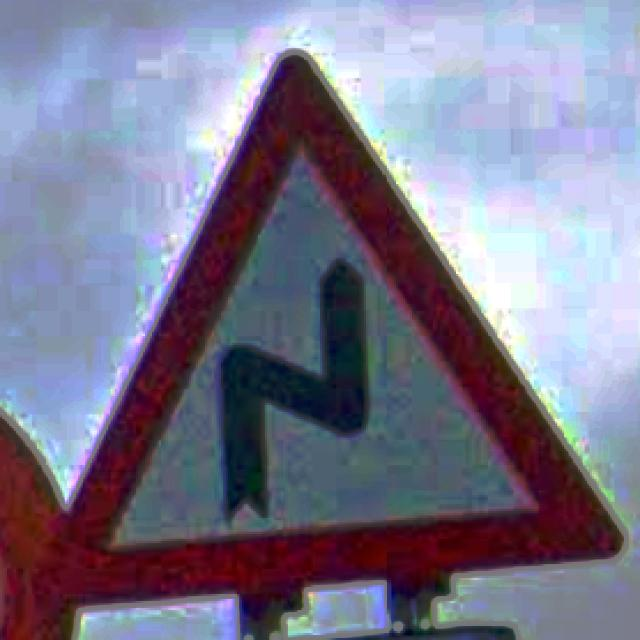doublebendright: (51, 53, 626, 603)
